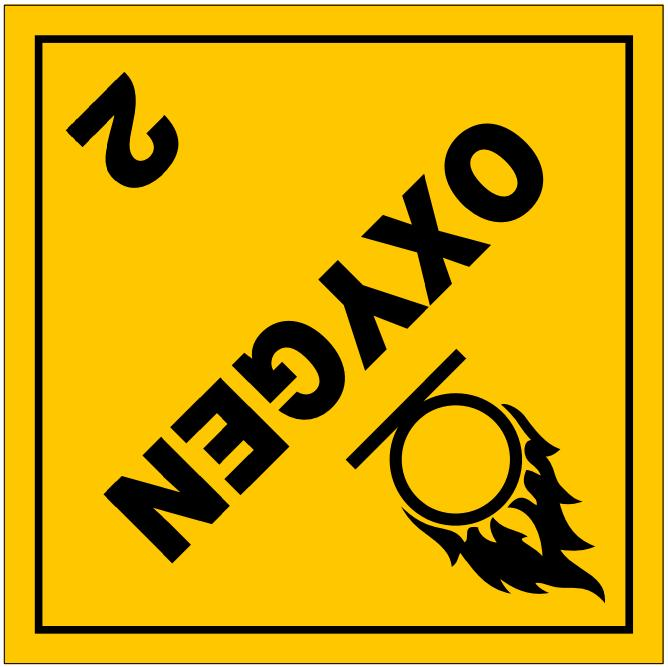oxidizer: (1, 1, 668, 667)
